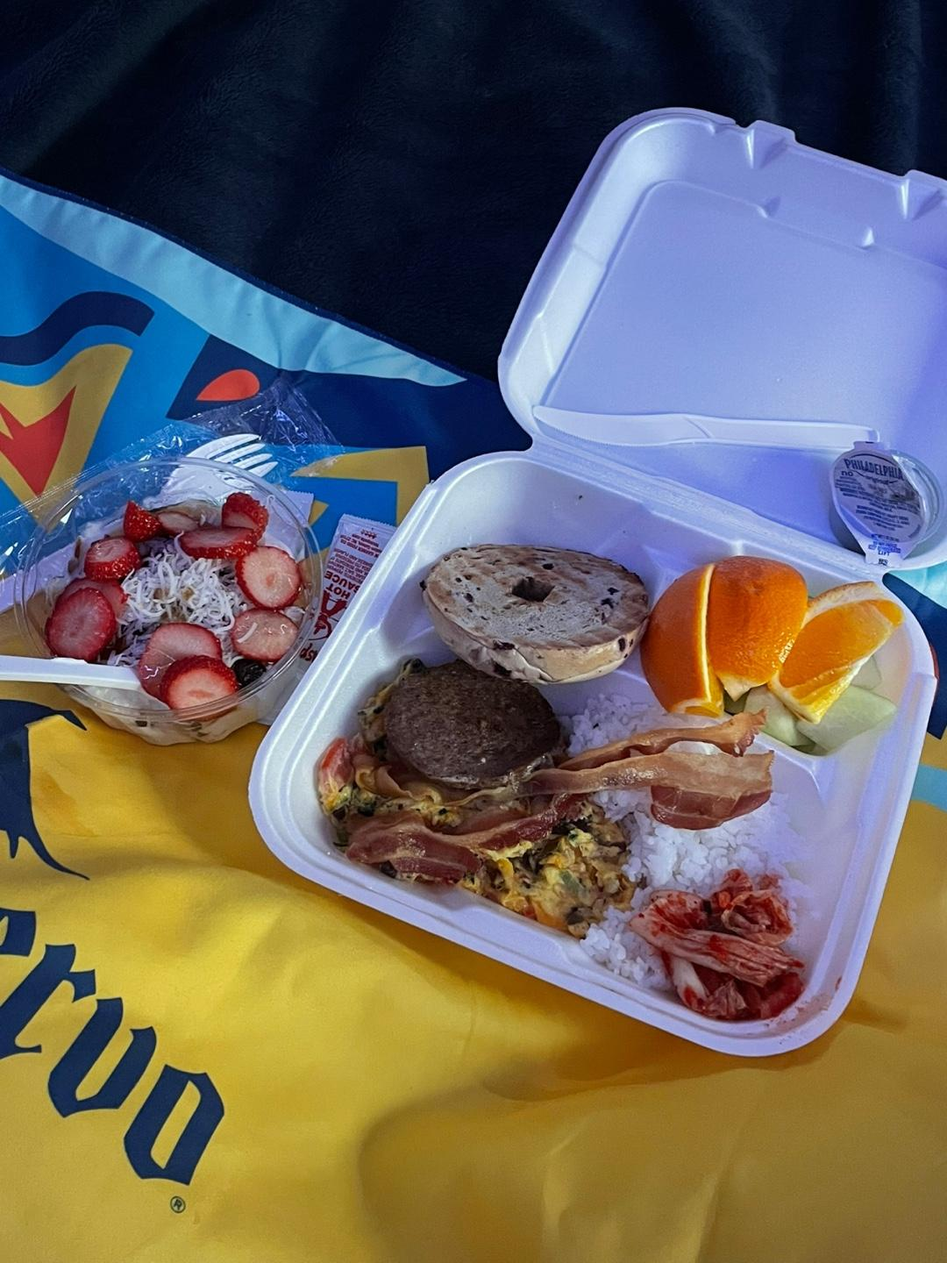Lunch Box: (250, 110, 946, 1056), (13, 458, 322, 745)
